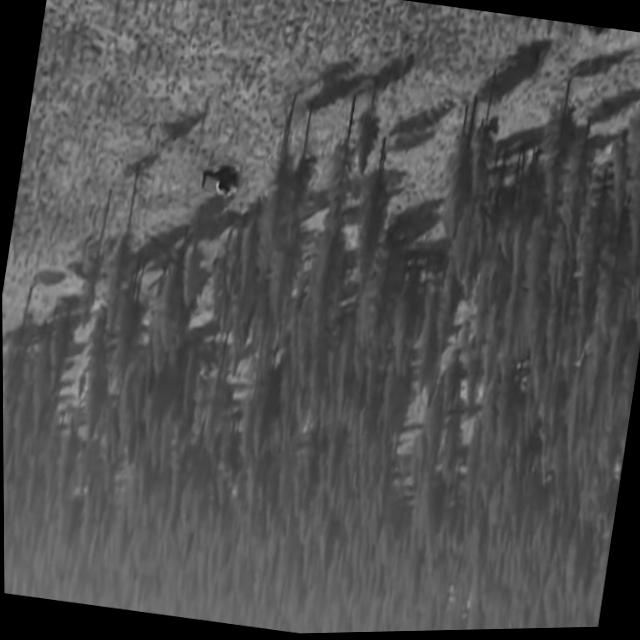helikopter: (174, 139, 268, 230)
